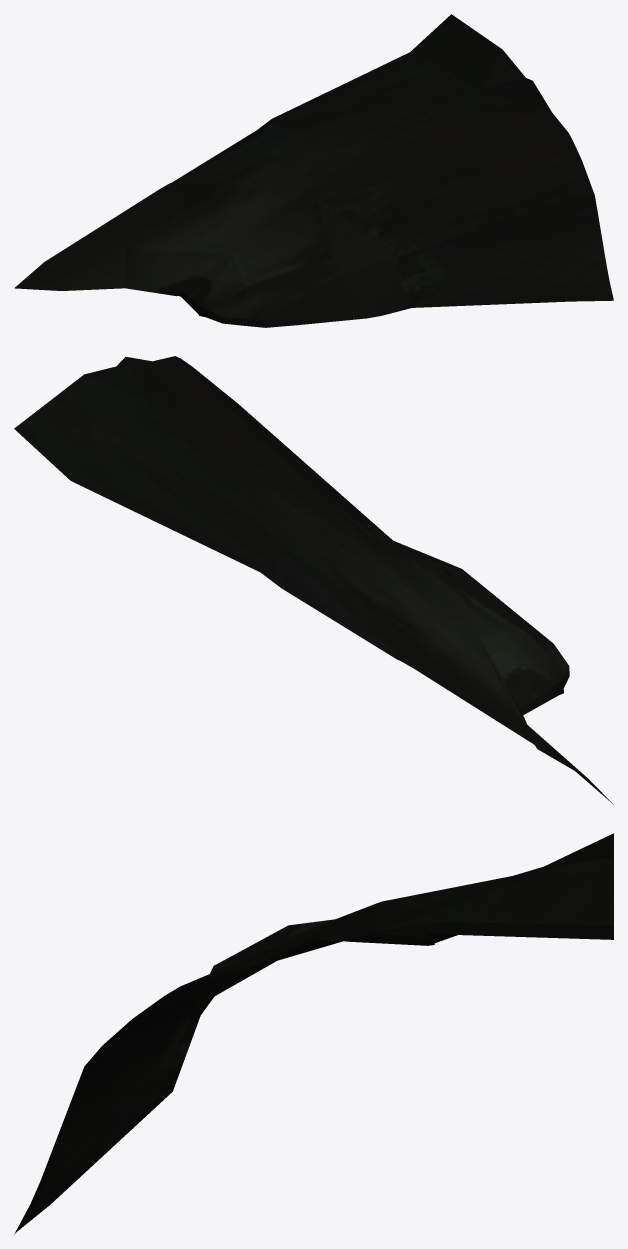
The picture shows the model from 3 angles, top to bottom: view 1: azimuth 30°, elevation 25°; view 2: azimuth 150°, elevation 25°; view 3: azimuth 270°, elevation 25°; orthographic projection. The views are drawn at different scales.
Bounding box in the file's own units: 0.7333 × 0.2718 × 0.4721.
Materials: 1 (1 with a texture image).
